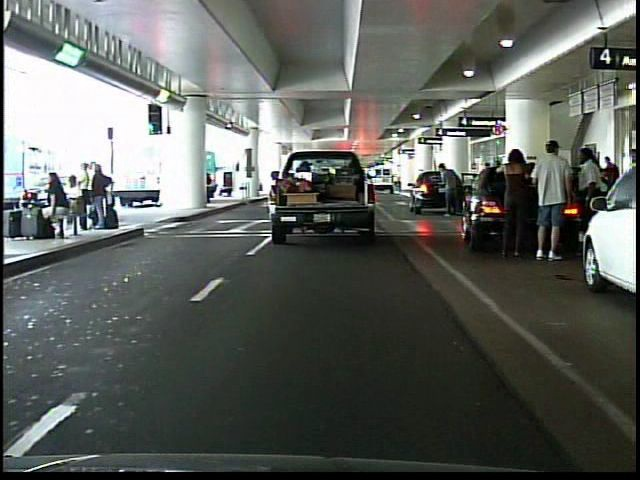person: (573, 141, 615, 274), (490, 138, 532, 267), (531, 137, 574, 262), (438, 159, 463, 226)
